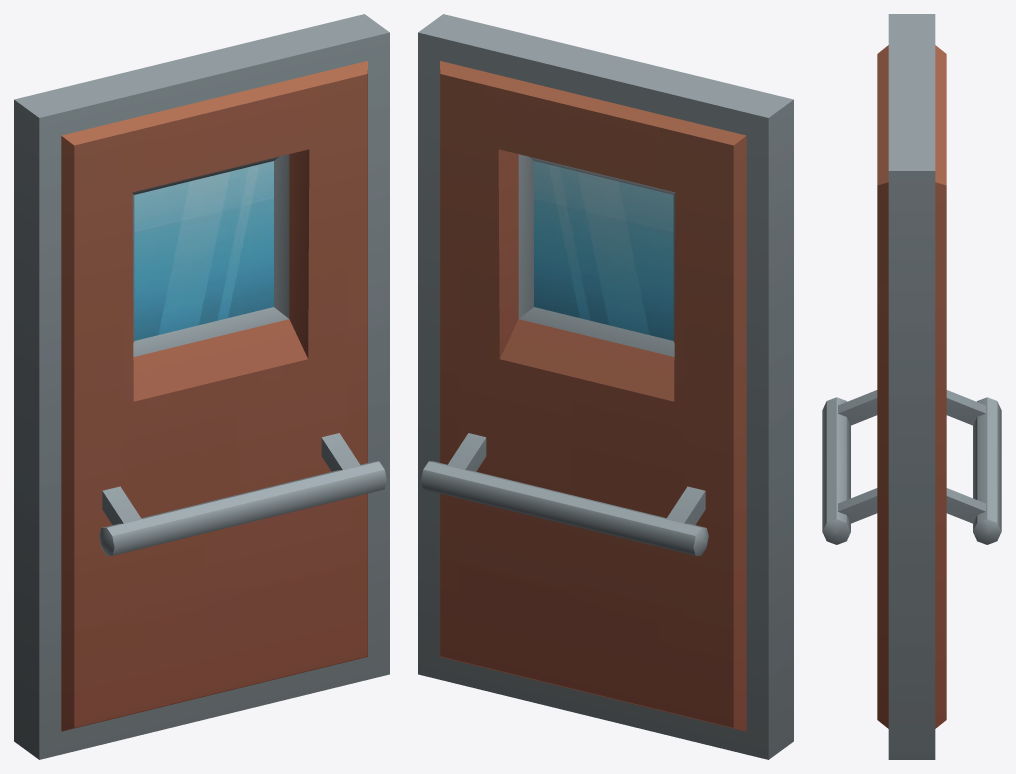
The model's file is kaykit-restaurant-bits-door-b.glb.
The picture shows the model from 3 angles, left to right: view 1: azimuth 30°, elevation 25°; view 2: azimuth 150°, elevation 25°; view 3: azimuth 270°, elevation 25°; orthographic projection. The views are drawn at different scales.
Parts seen in each view (by area): view 1: door_B; view 2: door_B; view 3: door_B.
Part boxes in pixels (bbox=[...]): door_B: bbox=[14, 14, 389, 759]; door_B: bbox=[418, 14, 793, 759]; door_B: bbox=[822, 14, 1001, 759].
Bounding box in the file's own units: 1.6 × 2.8 × 0.7715.
Materials: 1 (1 with a texture image).
